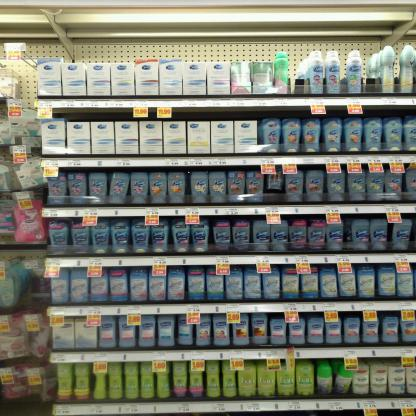Void: (291, 55, 307, 95), (364, 52, 379, 92), (18, 66, 34, 100), (30, 273, 45, 304)
